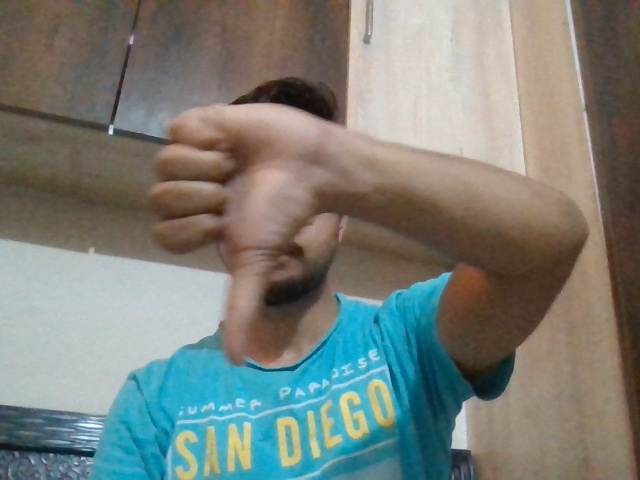no: (152, 83, 327, 369)
